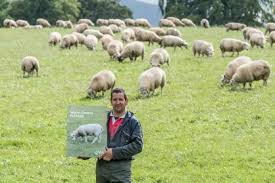sheep: (233, 62, 269, 89), (137, 65, 168, 96), (222, 56, 256, 84), (85, 70, 116, 98), (69, 122, 105, 146), (111, 38, 143, 62), (220, 36, 254, 55), (188, 40, 217, 60), (161, 35, 191, 49), (21, 57, 42, 77), (249, 29, 269, 49), (133, 27, 161, 39), (45, 33, 67, 48), (93, 28, 110, 45), (62, 35, 80, 51), (224, 19, 246, 32), (105, 40, 119, 57), (74, 22, 92, 35), (86, 35, 100, 51), (107, 17, 124, 30), (168, 17, 186, 28), (13, 20, 32, 30), (162, 28, 179, 39), (131, 16, 146, 28), (182, 17, 195, 30), (122, 14, 135, 27), (55, 20, 70, 31), (158, 19, 172, 29), (1, 17, 12, 29), (97, 16, 109, 26), (197, 18, 210, 27), (39, 18, 50, 27), (82, 19, 94, 26)
